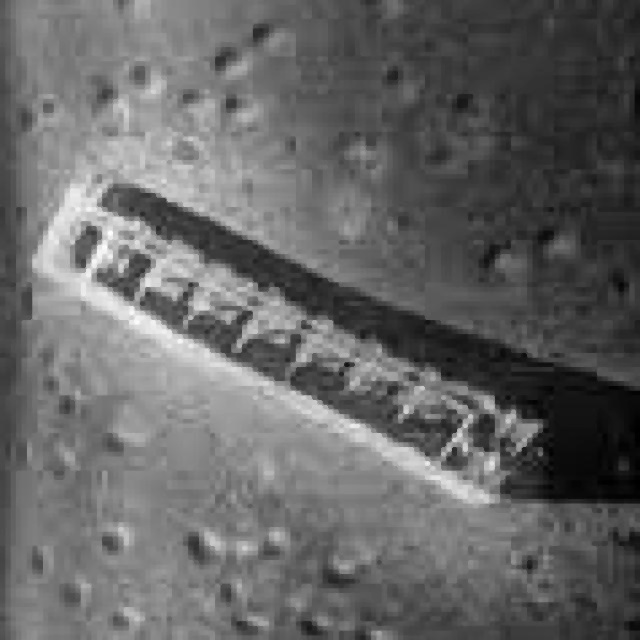Ship: (32, 177, 564, 512)
